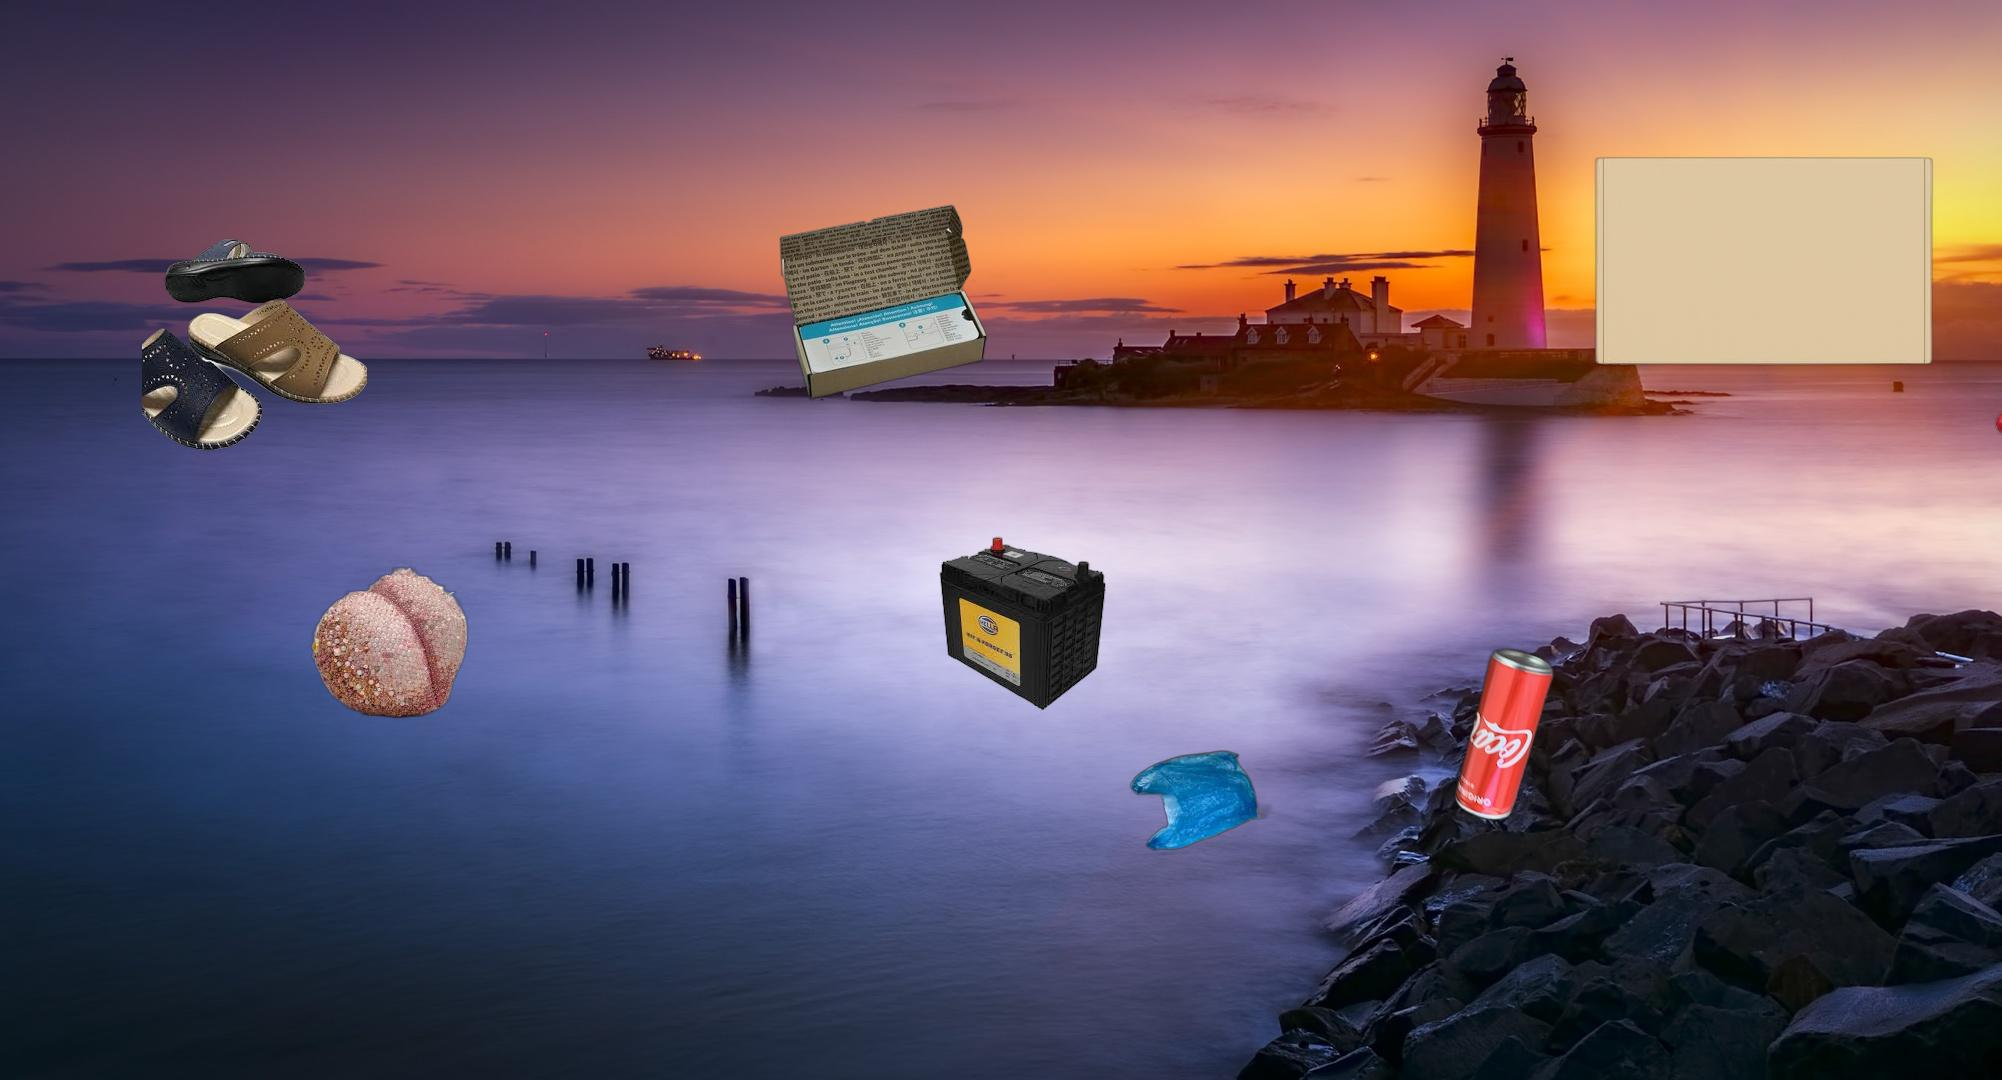battery: (937, 533, 1107, 713)
biological: (308, 564, 471, 721), (1941, 317, 2002, 458)
metal-cans: (1450, 642, 1558, 827)
plastic-bag: (1127, 747, 1274, 853)
shoes: (142, 237, 367, 462)
trashbox-cardboard: (1590, 154, 1938, 368), (778, 202, 988, 404)
